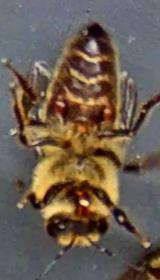varroa_mite: (48, 91, 78, 121), (96, 96, 120, 128)
